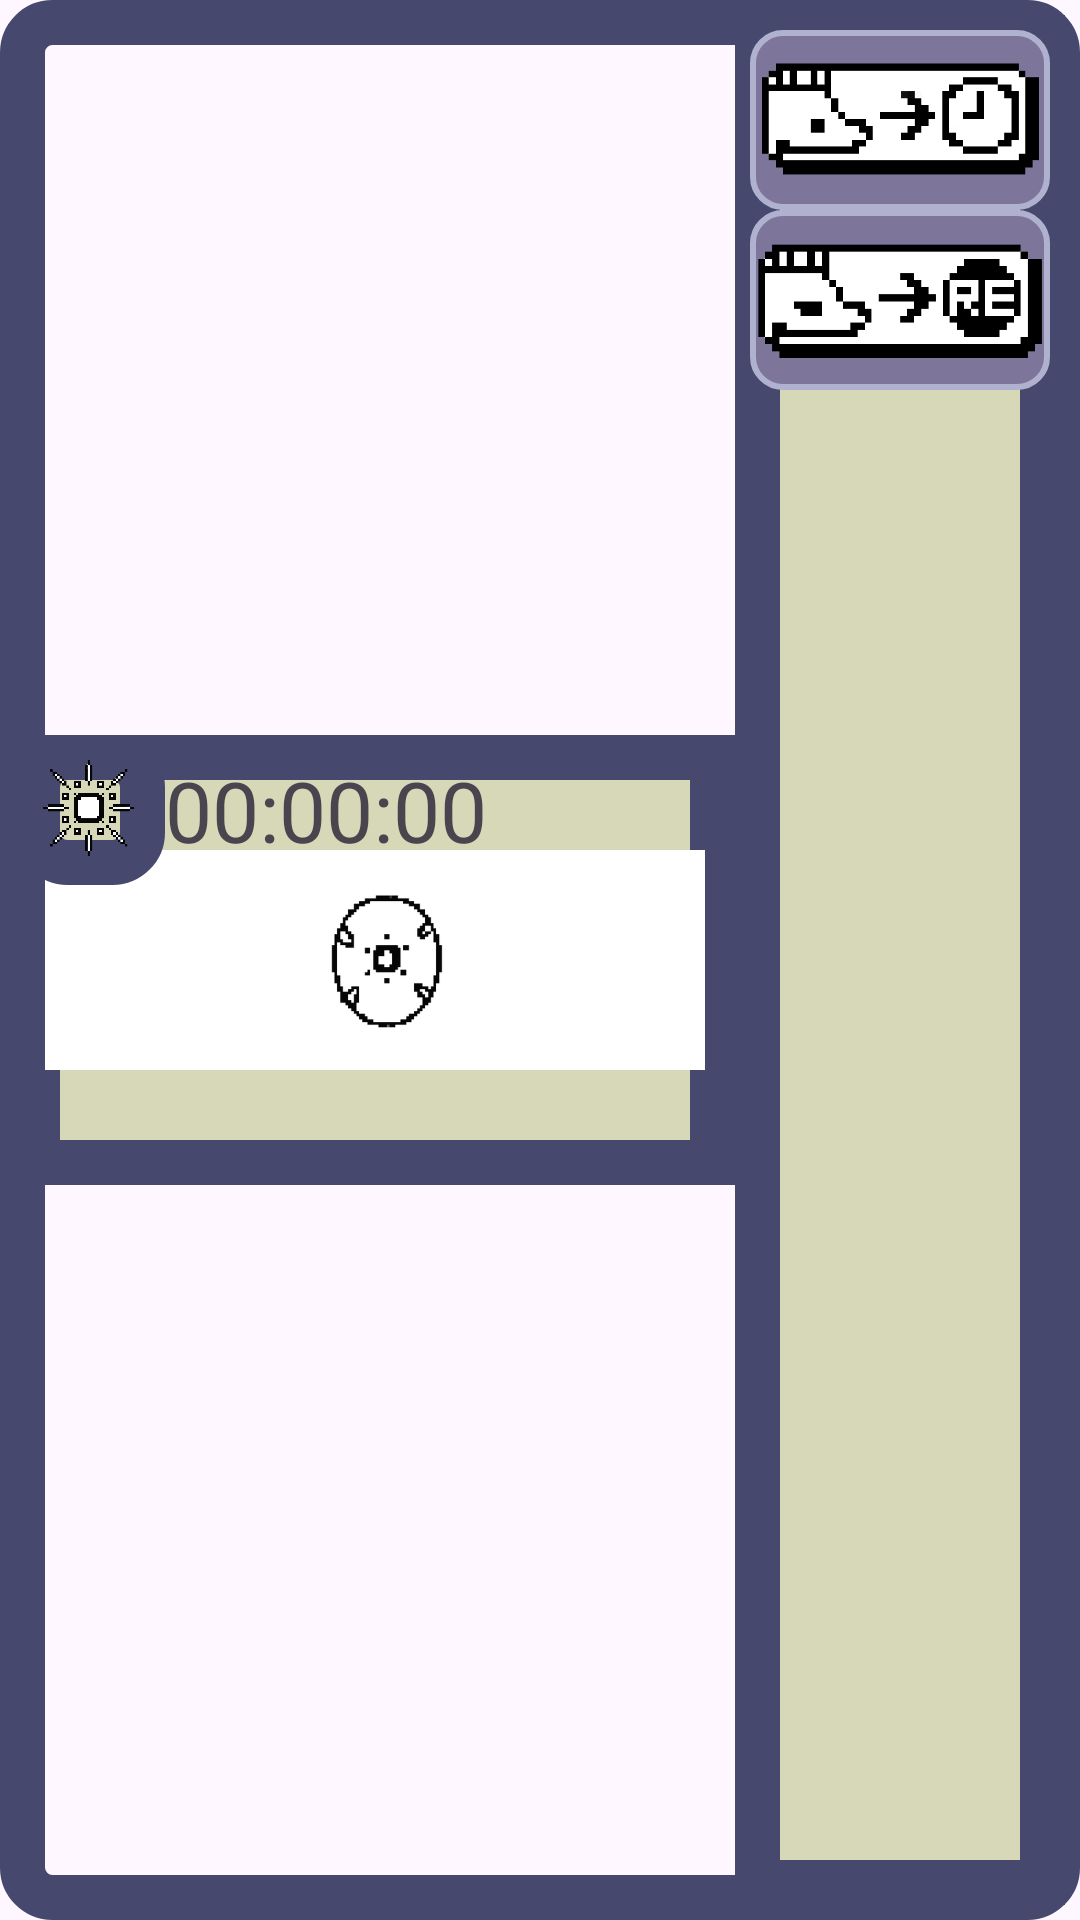

Screen size 1080 x 1920. Icon name, then its center in pixels as (x,y):
apply clock: (900,120)
restart to egg: (900,300)
